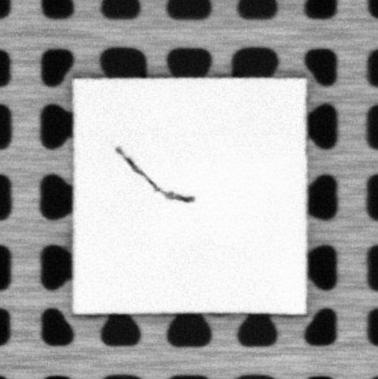DIE_INK: (115, 145, 196, 203)
